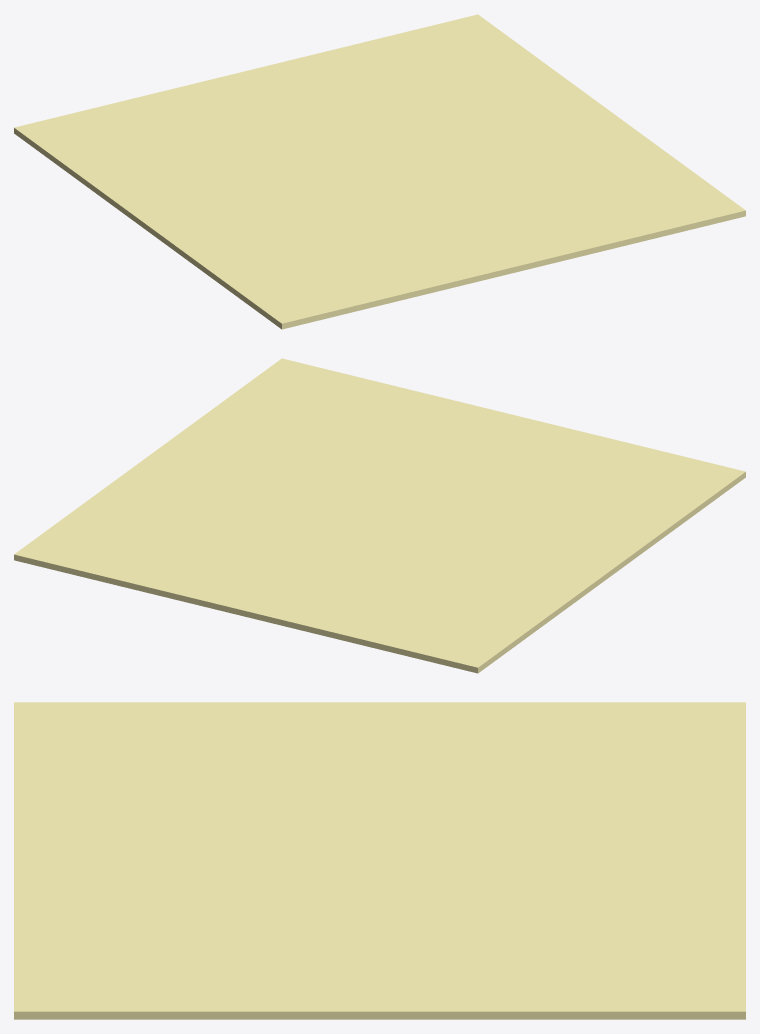
Rendered from road_dirt_track_washout.glb.
3 renders of one model, top to bottom at view 1: azimuth 30°, elevation 25°; view 2: azimuth 150°, elevation 25°; view 3: azimuth 270°, elevation 25°, orthographic. The views are drawn at different scales.
Visible parts, largest first — view 1: base; view 2: base; view 3: base.
Part boxes in pixels (bbox=[...]): base: bbox=[14, 14, 745, 329]; base: bbox=[14, 358, 745, 673]; base: bbox=[14, 702, 745, 1019].
Size of the model in its own units: 4 by 0.048 by 4.
